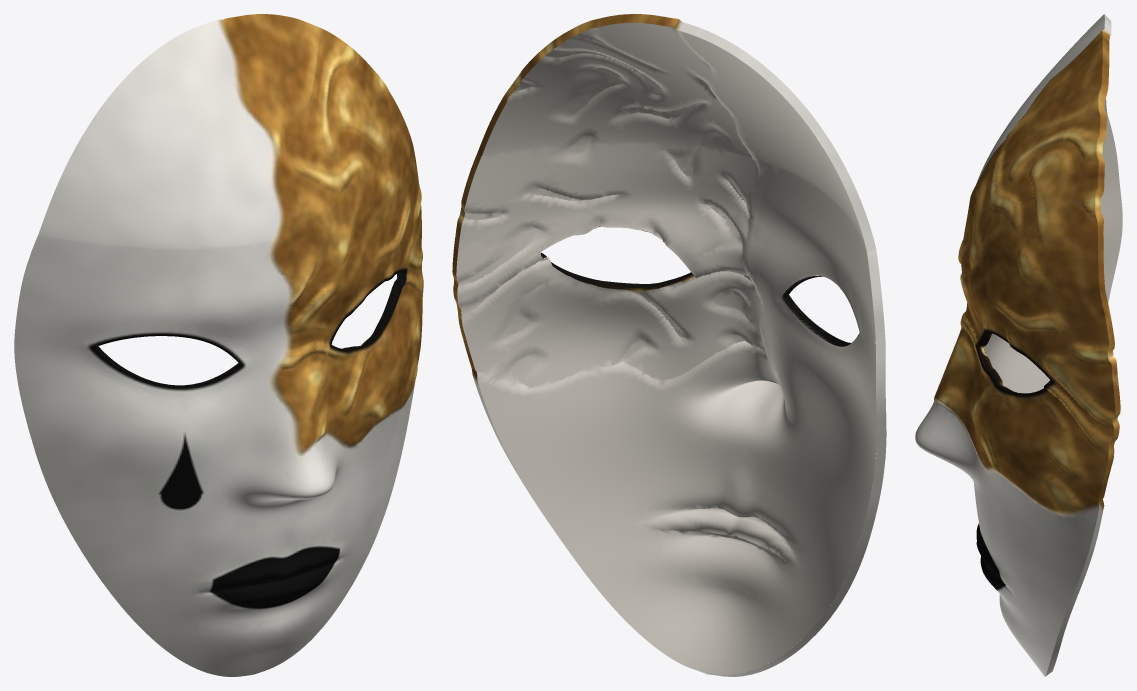
The model's file is mask_anna.glb.
The picture shows the model from 3 angles, left to right: view 1: azimuth 30°, elevation 25°; view 2: azimuth 150°, elevation 25°; view 3: azimuth 270°, elevation 25°; orthographic projection. The views are drawn at different scales.
Visible parts, largest first — view 1: Mask_Pierrot_Gold; view 2: Mask_Pierrot_Gold; view 3: Mask_Pierrot_Gold.
Boxes of the visible parts, x1,y1,x2,y2 form: Mask_Pierrot_Gold: (14, 14, 423, 676); Mask_Pierrot_Gold: (452, 14, 886, 676); Mask_Pierrot_Gold: (915, 14, 1122, 676).
Bounding box in the file's own units: 0.134 × 0.2 × 0.0592.
Materials: 2 (1 with a texture image).
